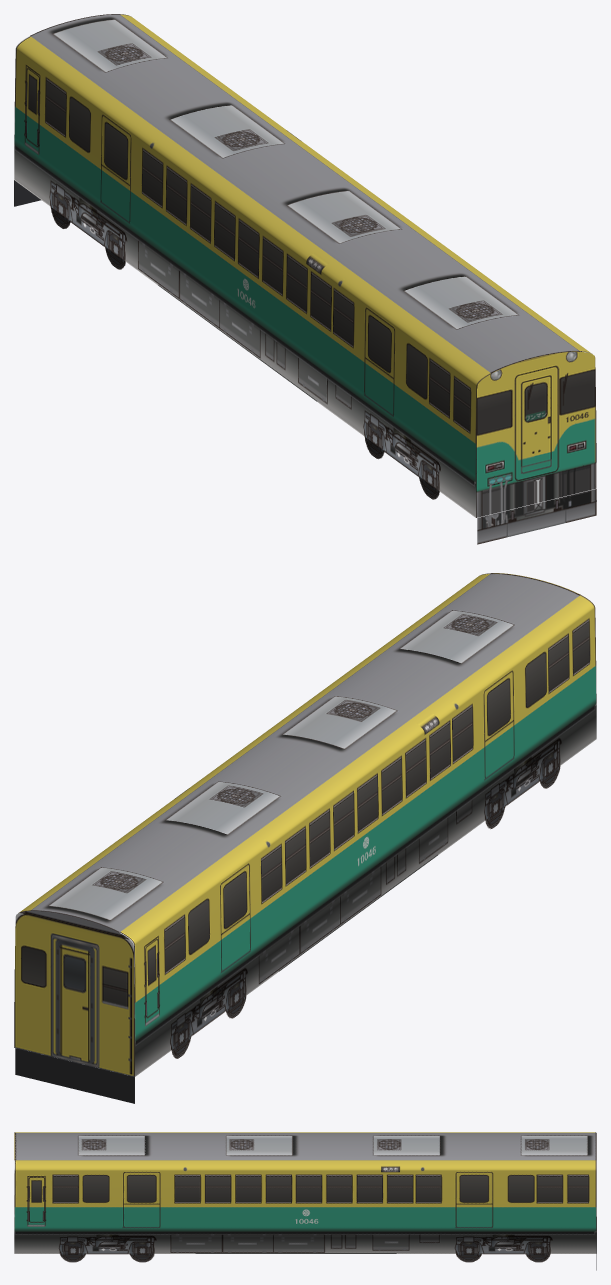
Rendered from car1.glb.
3 renders of one model, top to bottom at view 1: azimuth 30°, elevation 25°; view 2: azimuth 150°, elevation 25°; view 3: azimuth 270°, elevation 25°, orthographic. The views are drawn at different scales.
Visible parts, largest first — view 1: toyama10030-car1; view 2: toyama10030-car1; view 3: toyama10030-car1.
Part boxes in pixels (bbox=[...]): toyama10030-car1: bbox=[14, 14, 596, 544]; toyama10030-car1: bbox=[14, 573, 596, 1103]; toyama10030-car1: bbox=[14, 1132, 596, 1270].
Bounding box in the file's own units: 2.72 × 3.7 × 18.03.
Materials: 8 (7 with a texture image).
